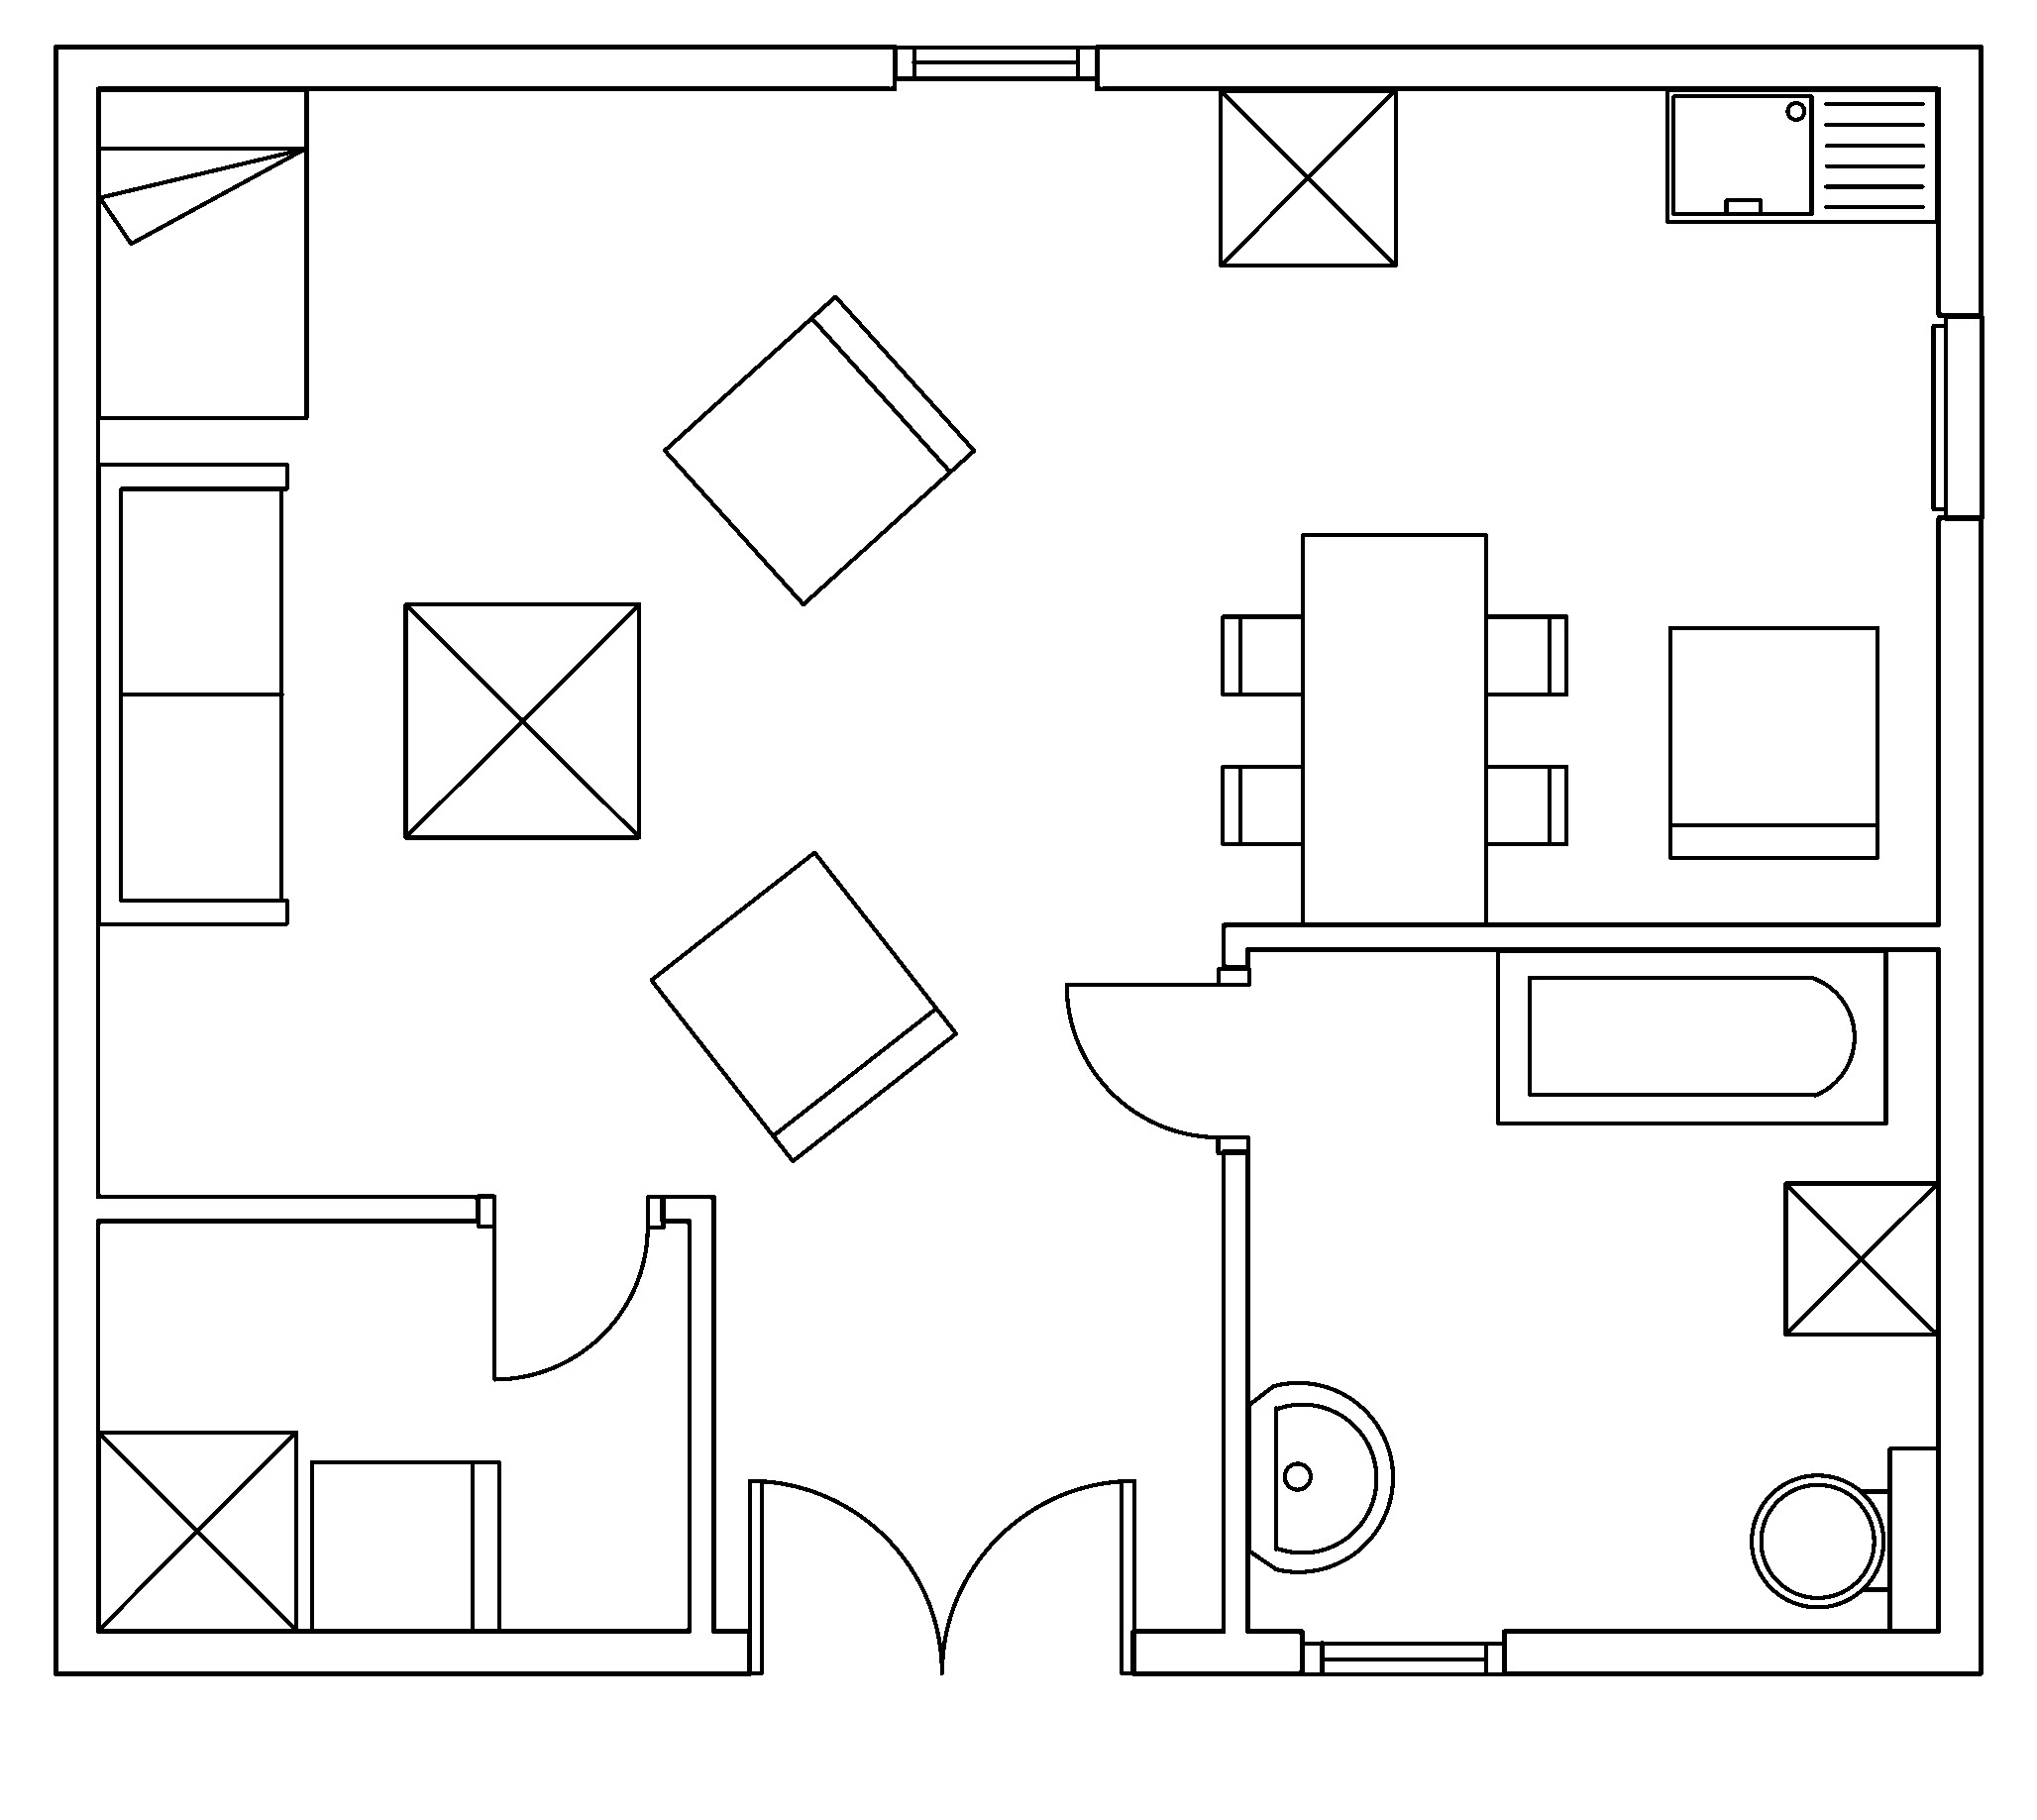bed: (95, 86, 309, 420)
coffee_table: (402, 601, 643, 840), (95, 1428, 299, 1632), (1217, 86, 1398, 267), (1781, 1179, 1940, 1337)
dining_table: (1219, 531, 1568, 926)
large_sink: (1749, 1444, 1940, 1632)
large_sofa: (95, 460, 290, 926)
sink: (1663, 86, 1940, 223)
small_sink: (1245, 1381, 1394, 1572)
small_sofa: (660, 292, 976, 606), (646, 849, 959, 1163), (1666, 624, 1879, 861), (307, 1458, 500, 1632)
tub: (1494, 947, 1888, 1126)
